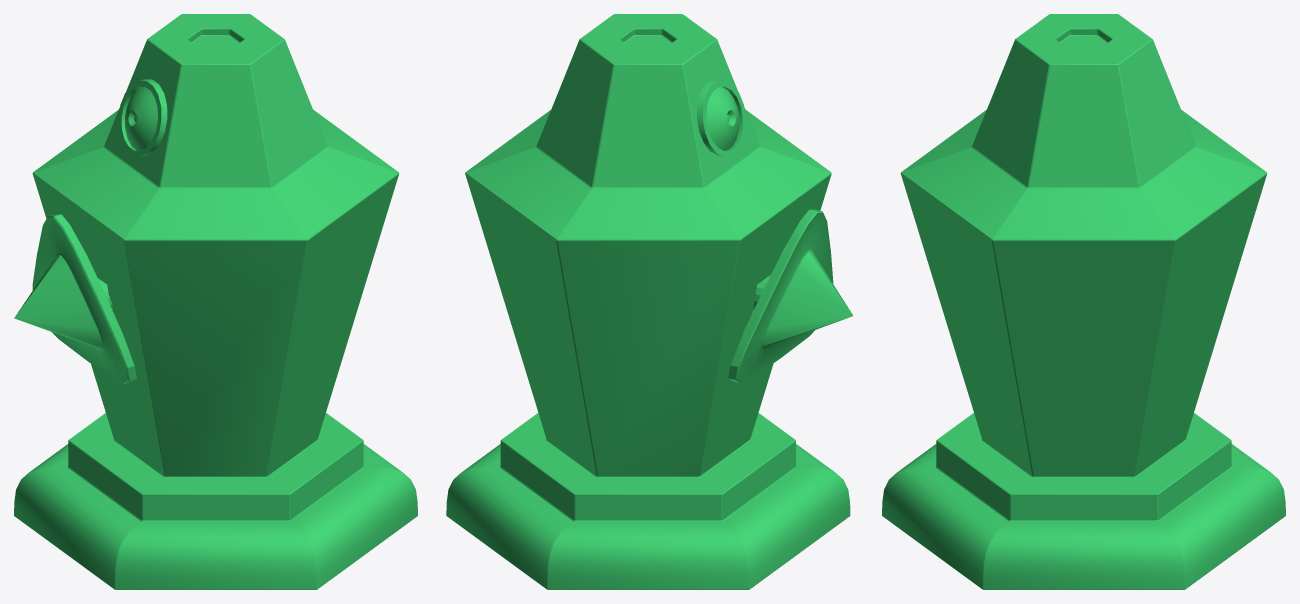
The model's file is pion.FBX.
3 renders of one model, left to right at view 1: azimuth 30°, elevation 25°; view 2: azimuth 150°, elevation 25°; view 3: azimuth 270°, elevation 25°, orthographic.
Visible parts, largest first — view 1: Corps_main, belier, Oeil; view 2: Corps_main, belier, Oeil; view 3: Corps_main.
Boxes of the visible parts, box(x1,y1,x2,y2) form: Corps_main: box(14, 14, 417, 589); belier: box(14, 214, 136, 384); Oeil: box(118, 79, 167, 156); Corps_main: box(446, 14, 850, 589); belier: box(728, 209, 853, 382); Oeil: box(697, 79, 746, 156); Corps_main: box(882, 14, 1285, 589).
Bounding box in the file's own units: 112 × 144 × 111.
